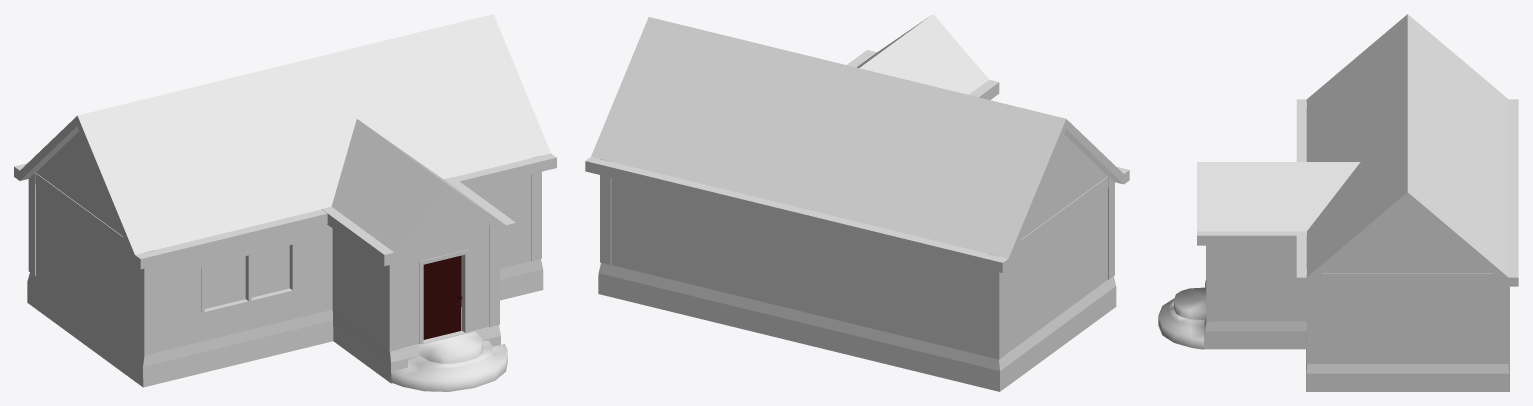
File: housemodel.fbx
3 renders of one model, left to right at view 1: azimuth 30°, elevation 25°; view 2: azimuth 150°, elevation 25°; view 3: azimuth 270°, elevation 25°, orthographic. The views are drawn at different scales.
Parts seen in each view (by area): view 1: Cube.016, Plane, Cube.002, Cube.017, Cube, Cube.005, Circle, Cube.004, Plane.002, Cube.021, Cube.007, Cube.010 (+7 smaller); view 2: Cube.016, Plane, Cube.009, Cube.001, Cube.002, Cube.017, Cube.014, Cube.026, Cube.013, Cube.015; view 3: Cube.016, Cube.008, Cube.017, Plane, Cube.006, Circle, Cube.025, Cube.012, Cube.013, Cube.011.
Part boxes in pixels (box(x1,y1,x2,y2)): Cube.016: box(14, 14, 556, 269); Plane: box(27, 259, 543, 387); Cube.002: box(36, 131, 137, 350); Cube.017: box(322, 119, 515, 266); Cube: box(155, 224, 332, 352); Cube.005: box(400, 198, 488, 348); Circle: box(391, 331, 507, 391); Cube.004: box(332, 229, 383, 345); Plane.002: box(204, 245, 289, 308); Cube.021: box(423, 255, 462, 339); Cube.007: box(470, 174, 530, 268); Cube.010: box(383, 257, 400, 351); Cube.016: box(585, 17, 1129, 273); Plane: box(598, 262, 1116, 391); Cube.009: box(611, 178, 799, 310); Cube.001: box(800, 224, 988, 356); Cube.002: box(1005, 134, 1107, 354); Cube.017: box(847, 14, 999, 99); Cube.014: box(988, 253, 1005, 359); Cube.026: box(1013, 176, 1108, 256); Cube.013: box(600, 158, 611, 264); Cube.015: box(1108, 176, 1114, 279); Cube.016: box(1296, 14, 1518, 286); Cube.008: box(1317, 201, 1497, 363); Cube.017: box(1197, 162, 1360, 245); Plane: box(1204, 279, 1509, 391); Cube.006: box(1217, 245, 1306, 321); Circle: box(1158, 287, 1206, 349); Cube.025: box(1317, 273, 1497, 283); Cube.012: box(1306, 269, 1317, 363); Cube.013: box(1498, 269, 1508, 363); Cube.011: box(1206, 245, 1216, 321).
Size of the model in its own units: 4200 by 2234 by 3592.
